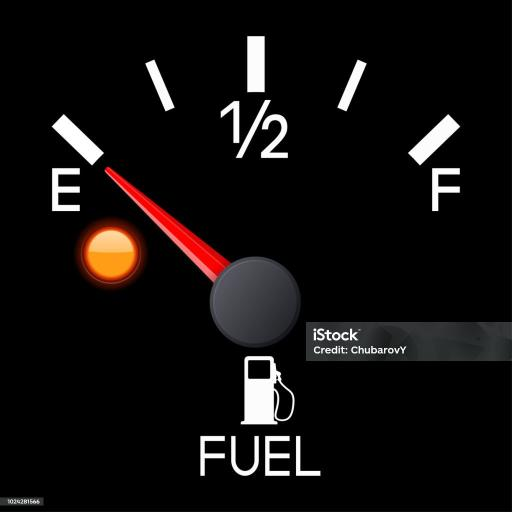empty: (45, 164, 89, 217)
fuel_icon: (238, 353, 294, 429)
full: (426, 166, 462, 215)
guage_area: (45, 25, 480, 437)
needle_center: (205, 260, 305, 351)
needle_tip: (100, 161, 126, 188)
